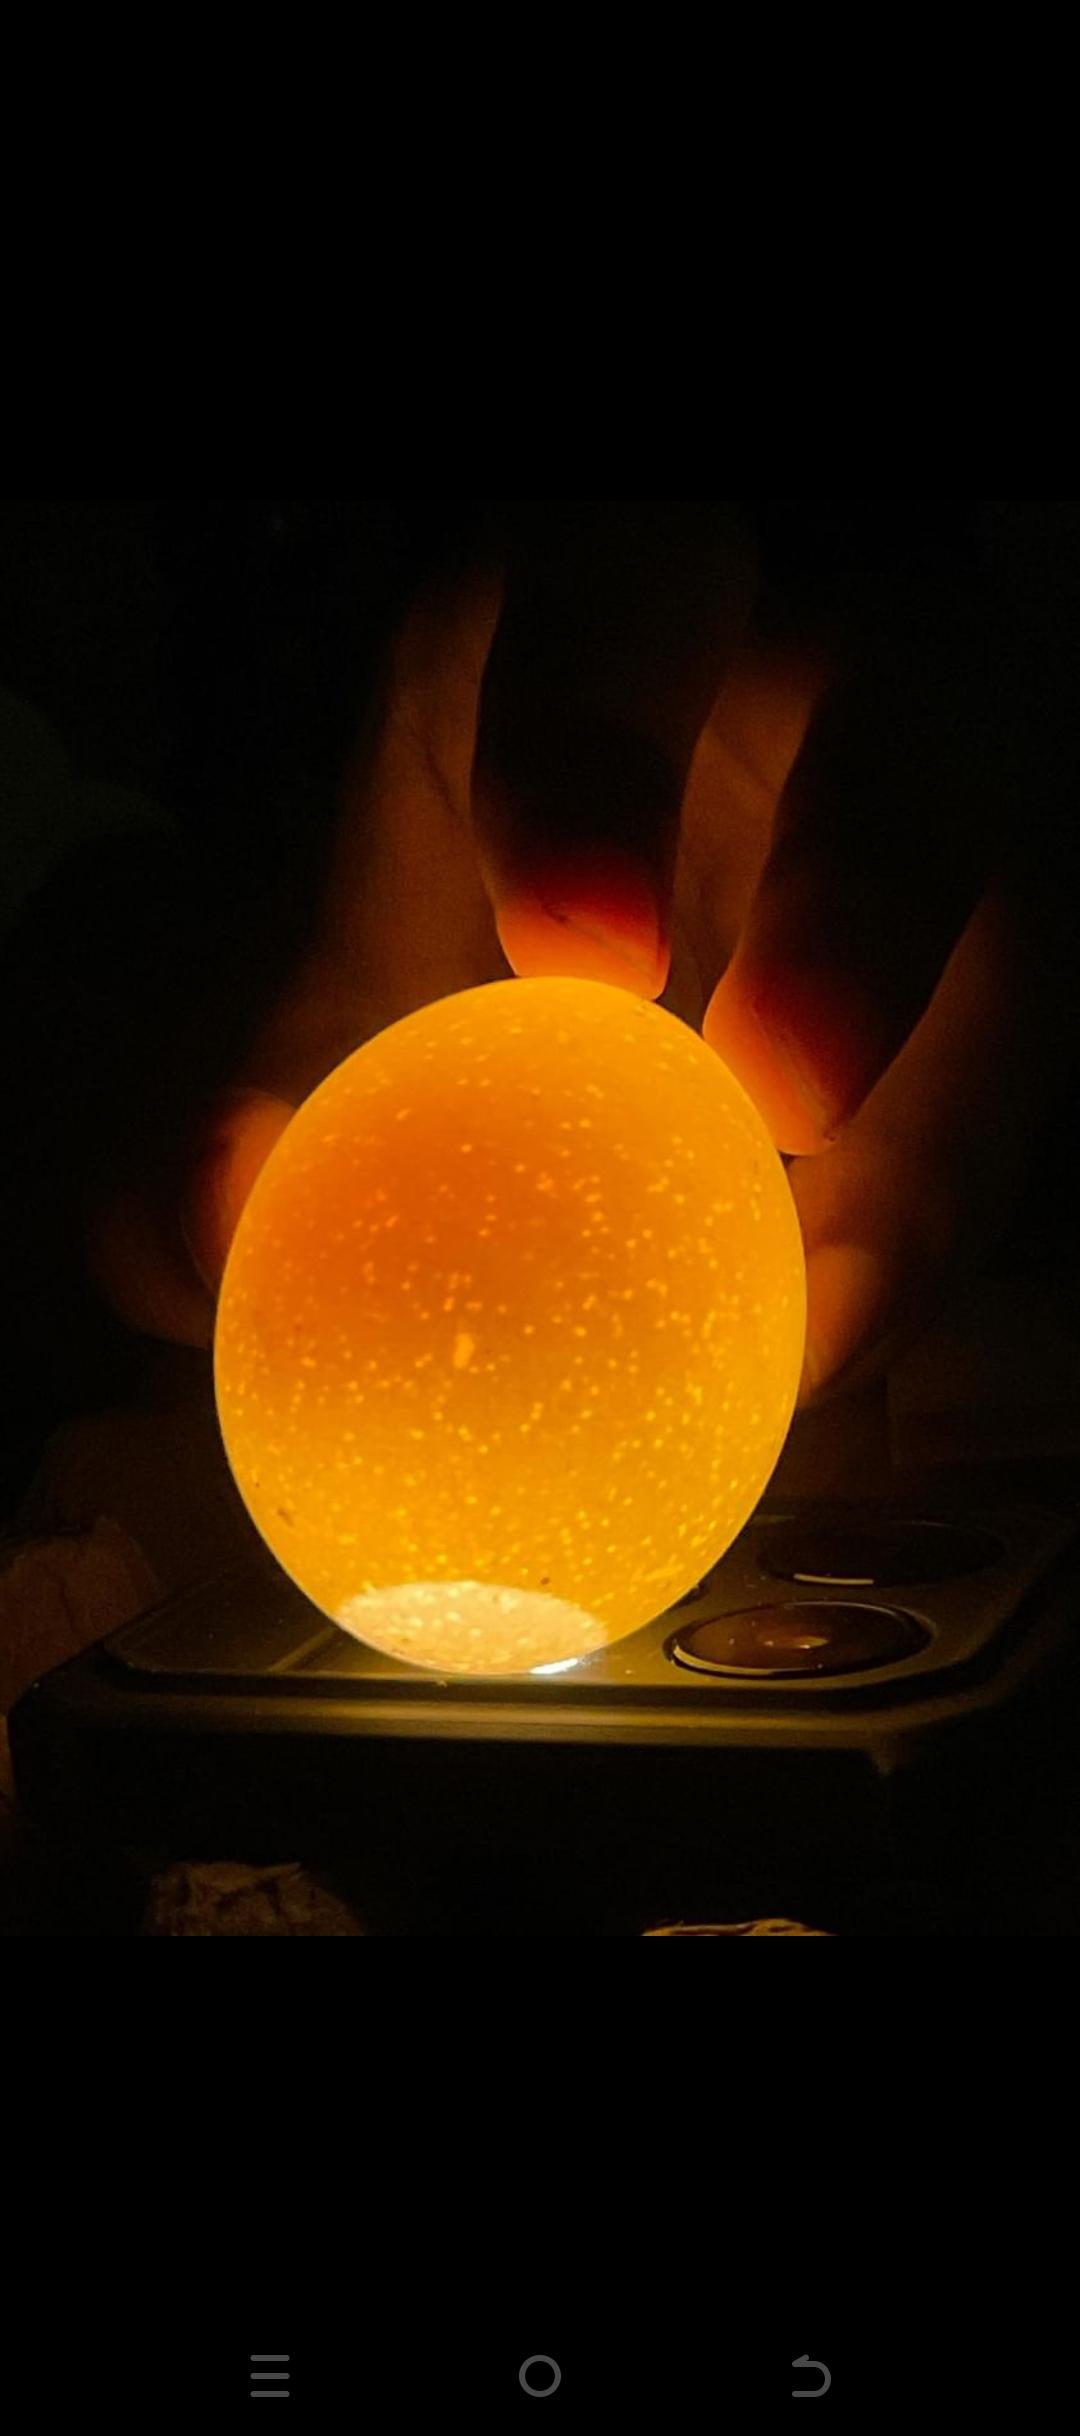A - Good: (200, 957, 824, 1720)
